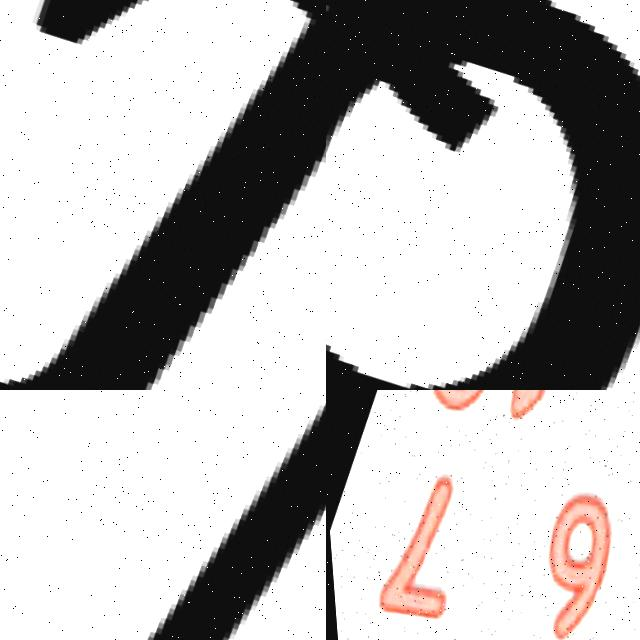0: (388, 390, 540, 439)
1: (459, 390, 603, 453)
6: (493, 475, 640, 640)
7: (336, 447, 499, 640)
L: (0, 0, 326, 390)
Q: (326, 0, 640, 390)
T: (0, 390, 326, 640)
